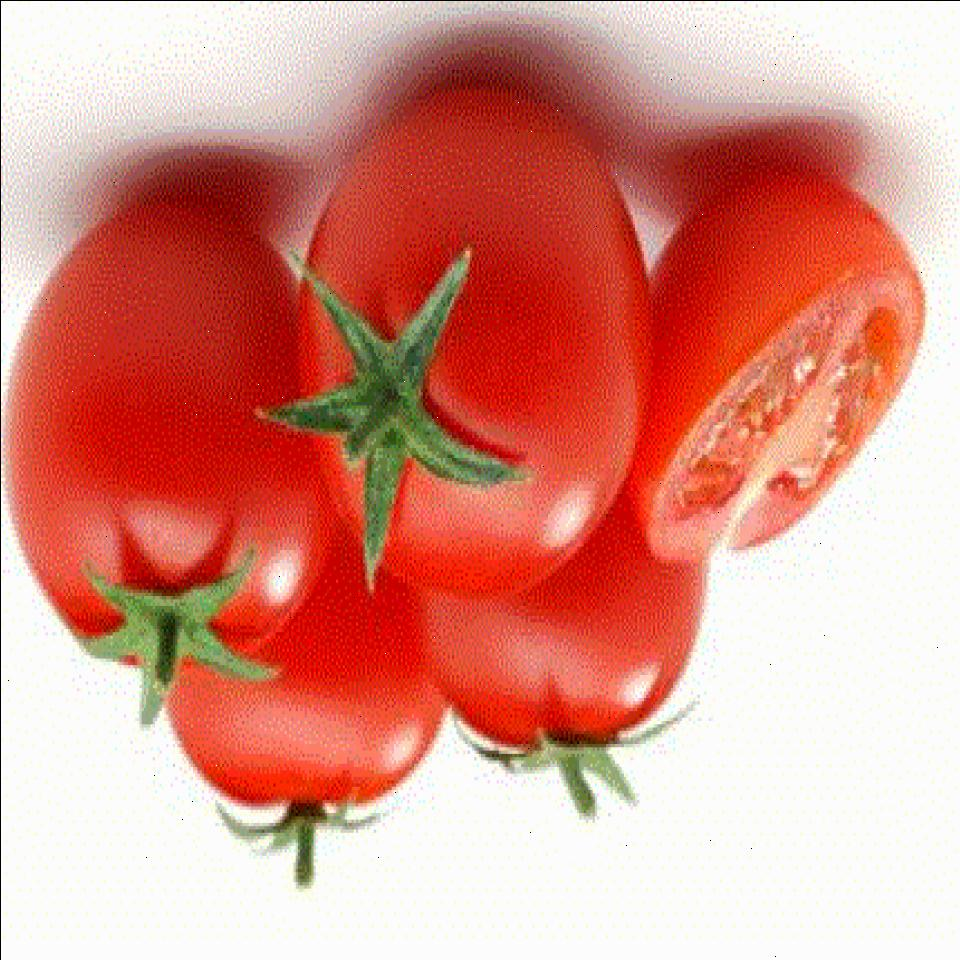Healthy: (276, 113, 650, 549), (32, 236, 316, 676), (450, 504, 732, 805), (162, 578, 450, 832)
